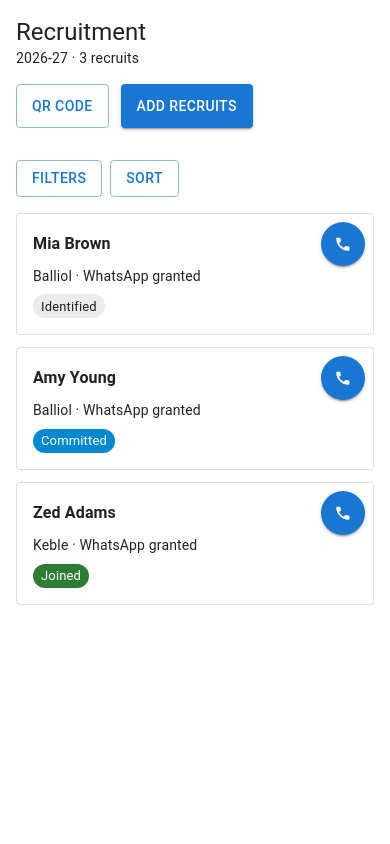
Test: LAN-495 — the Recruits board's Sort sheet › opens the bottom sheet from the phone bar with three rows, Clear and Done
The width and height of the screenshot is (390, 844).
Click the button with test id "recruitment-sort-phone": (145, 178) [110,160,179,196]
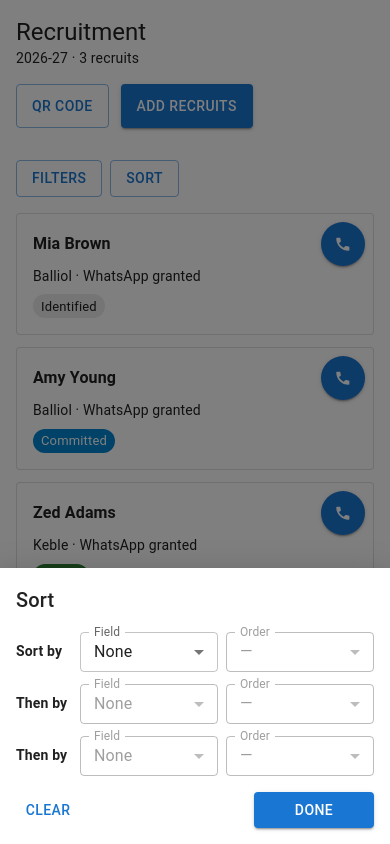
Expected: the text "Sort by" is shown, [16,644,62,660]
Expected: the text "Then by" is shown 2 times, [16,694,72,714]; [16,746,72,766]
Expected: the button "Clear" is shown, [16,792,80,828]
